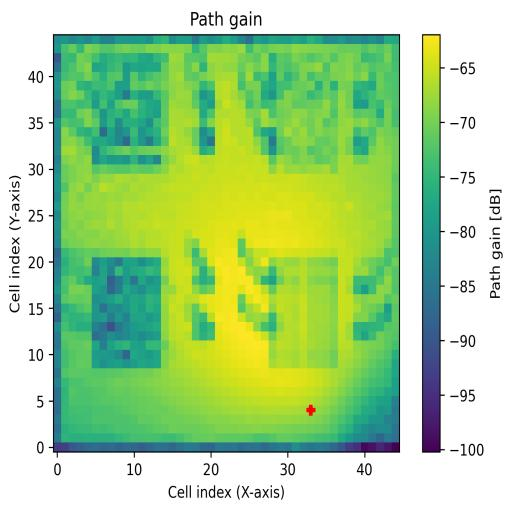Concrete: (262, 54, 339, 174)
Glass: (90, 52, 169, 164)
Metal: (268, 257, 339, 369)
Wood: (92, 257, 162, 368)
